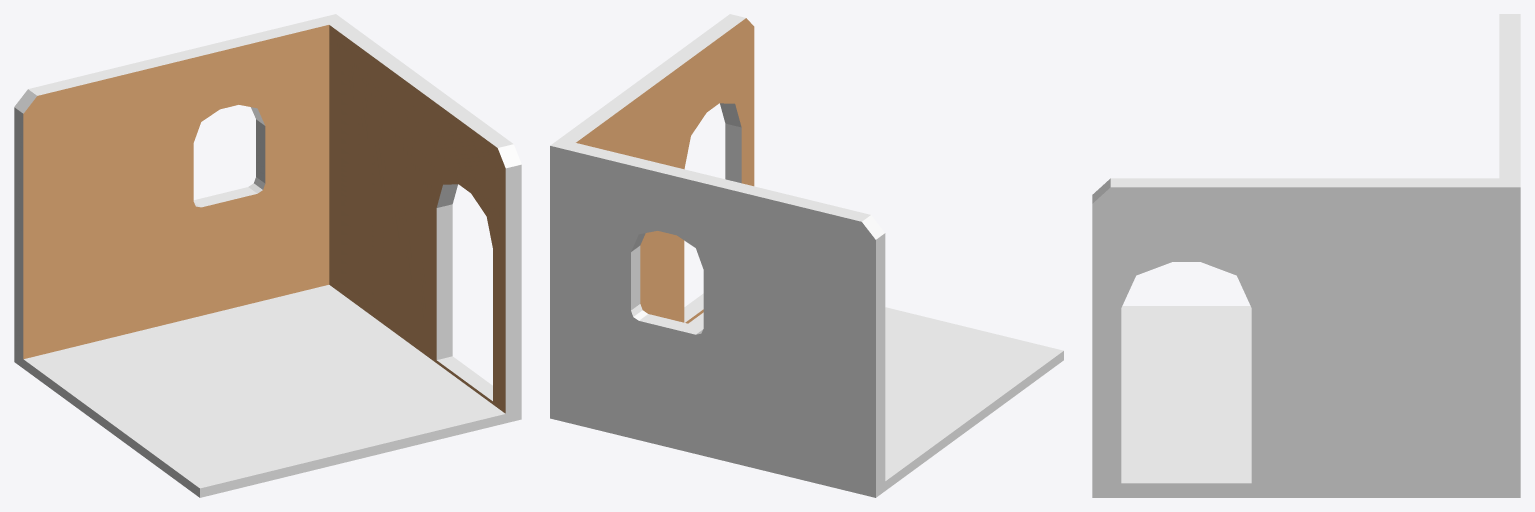
Rendered from Wall_30.fbx.
3 views of the same model, side by side, from view 1: azimuth 30°, elevation 25°; view 2: azimuth 150°, elevation 25°; view 3: azimuth 270°, elevation 25° (orthographic). The views are drawn at different scales.
Visible parts, largest first — view 1: Wall_30; view 2: Wall_30; view 3: Wall_30.
Boxes of the visible parts, x1,y1,x2,y2 form: Wall_30: (14, 14, 521, 497); Wall_30: (550, 14, 1063, 497); Wall_30: (1092, 14, 1520, 497).
Size of the model in its own units: 3.8 by 3.04 by 3.8.
